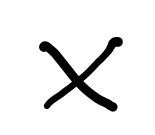mult: (37, 39, 123, 111)
